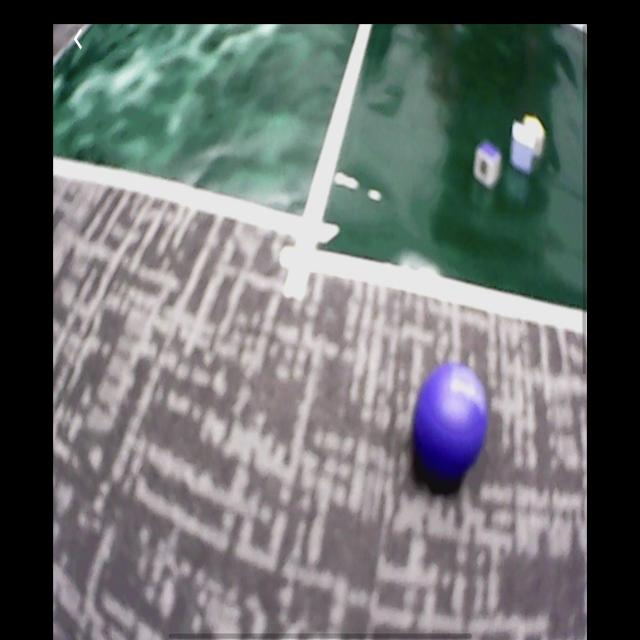ball: (413, 361, 489, 470)
